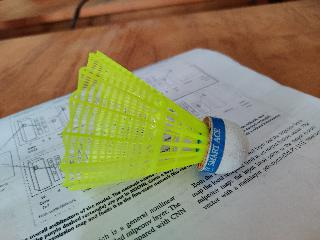shuttlecock: (60, 48, 248, 188)
